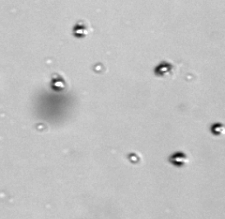Living Cell: (170, 151, 187, 168), (156, 61, 171, 75), (51, 77, 66, 90), (73, 24, 88, 37), (128, 152, 143, 163), (211, 122, 223, 134)
